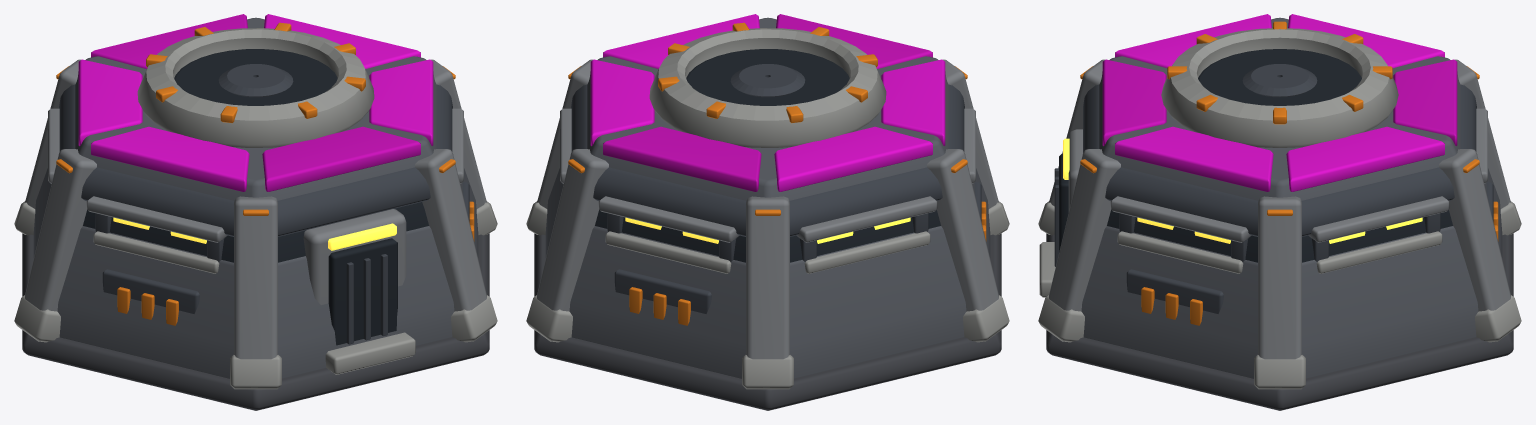
File: bunker.glb
3 renders of one model, left to right at view 1: azimuth 30°, elevation 25°; view 2: azimuth 150°, elevation 25°; view 3: azimuth 270°, elevation 25°, orthographic.
Parts seen in each view (by area): view 1: Bunker.001; view 2: Bunker.001; view 3: Bunker.001.
Part boxes in pixels (x1=…): Bunker.001: x1=14, y1=14, x2=497, y2=410; Bunker.001: x1=526, y1=14, x2=1009, y2=410; Bunker.001: x1=1038, y1=14, x2=1521, y2=410.
Bounding box in the file's own units: 2.31 × 1.11 × 2.08.
